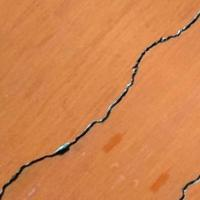crack: (0, 12, 199, 199)
